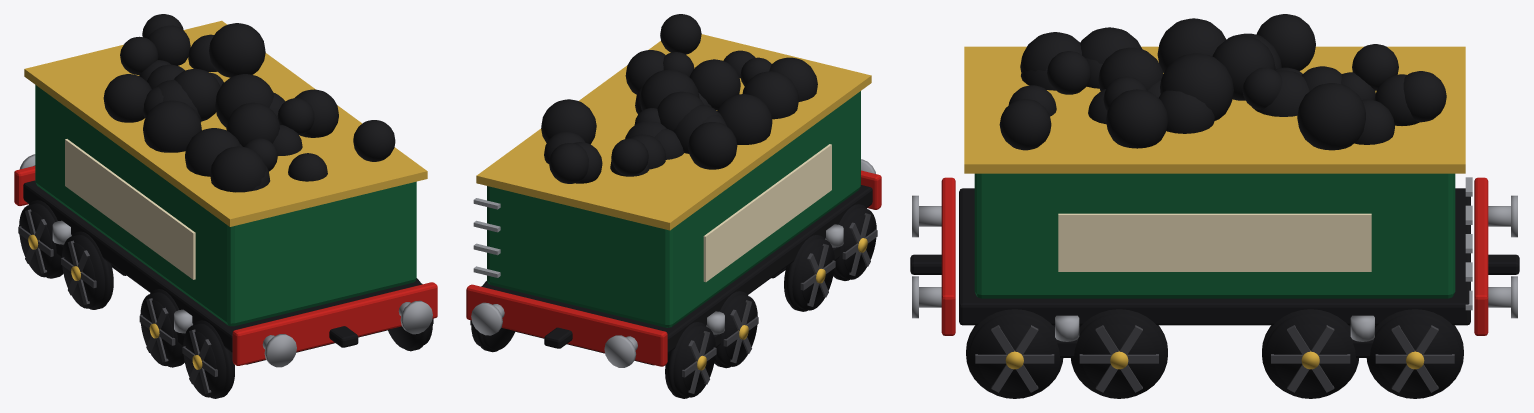
File: tender.glb
The picture shows the model from 3 angles, left to right: view 1: azimuth 30°, elevation 25°; view 2: azimuth 150°, elevation 25°; view 3: azimuth 270°, elevation 25°; orthographic projection. The views are drawn at different scales.
Parts seen in each view (by area): view 1: p_caja, p_carbon, p_chasis; view 2: p_caja, p_chasis, p_carbon; view 3: p_caja, p_chasis, p_carbon.
Part boxes in pixels (x1,y1,x2,y2): p_caja: [24, 20, 427, 326]; p_carbon: [103, 14, 395, 192]; p_chasis: [14, 154, 437, 398]; p_caja: [473, 34, 871, 327]; p_chasis: [466, 159, 881, 398]; p_carbon: [541, 14, 817, 183]; p_caja: [964, 46, 1472, 310]; p_chasis: [910, 177, 1519, 398]; p_carbon: [999, 14, 1446, 150].
Size of the model in its own units: 1.81 by 1.84 by 3.5.
